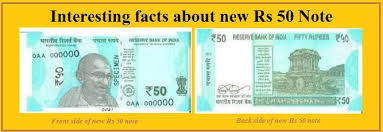fifty: (26, 39, 183, 100)
